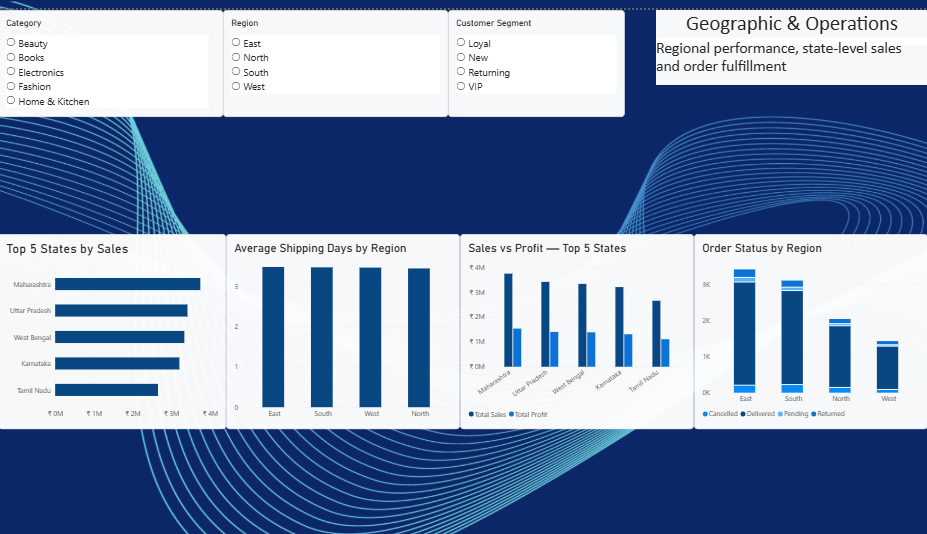

This screenshot's page, from the dashboard's own definition file:
{"tool":"powerbi","page":{"name":"Geographic & Operations","canvas":[1920,1080],"ordinal":2},"visuals":[{"type":"clusteredBarChart","title":"Top 5 States by Sales","fields":{"Category":["Orders.State"],"Y":["Orders.Total Sales"]},"box":[0,462.5,470.7,402.6],"z":0},{"type":"clusteredColumnChart","title":"Sales vs Profit — Top 5 States","fields":{"Category":["Orders.State"],"Y":["Orders.Total Sales","Orders.Total Profit"]},"box":[953.8,462.5,483,403],"z":1000},{"type":"clusteredColumnChart","title":"Average Shipping Days by Region","fields":{"Category":["Orders.Region"],"Y":["Avg(Orders.Shipping Days)"]},"box":[470.7,462.5,483.1,402.6],"z":2000},{"type":"columnChart","title":"Order Status by Region","fields":{"Category":["Orders.Region"],"Series":["Orders.Order Status"],"Y":["Orders.Total Orders"]},"box":[1436.9,462.5,483.1,402.6],"z":3000},{"type":"textbox","box":[1358.5,0,561.5,72.3],"z":3001},{"type":"textbox","box":[1358.5,57.8,561.5,97],"z":3002},{"type":"listSlicer","fields":{"Values":["Orders.Category"]},"box":[0,0,464.5,220.9],"z":3003},{"type":"listSlicer","fields":{"Values":["Orders.Region"]},"box":[465,0,465,221],"z":3004},{"type":"listSlicer","fields":{"Values":["Orders.Customer Segment"]},"box":[929,0,365.4,220.9],"z":3005}]}

Visuals, with their boxes in screenshot pixels (x1, y1, x2, y2), scaled from the page's 1920x1080 canvas onto the 927x534 screenshot:
"Top 5 States by Sales" clusteredBarChart: [x1=0, y1=229, x2=227, y2=428]
"Sales vs Profit — Top 5 States" clusteredColumnChart: [x1=461, y1=229, x2=694, y2=428]
"Average Shipping Days by Region" clusteredColumnChart: [x1=227, y1=229, x2=461, y2=428]
"Order Status by Region" columnChart: [x1=694, y1=229, x2=926, y2=428]
textbox: [x1=656, y1=0, x2=926, y2=36]
textbox: [x1=656, y1=29, x2=926, y2=77]
listSlicer - Orders.Category: [x1=0, y1=0, x2=224, y2=109]
listSlicer - Orders.Region: [x1=225, y1=0, x2=449, y2=109]
listSlicer - Orders.Customer Segment: [x1=449, y1=0, x2=625, y2=109]
